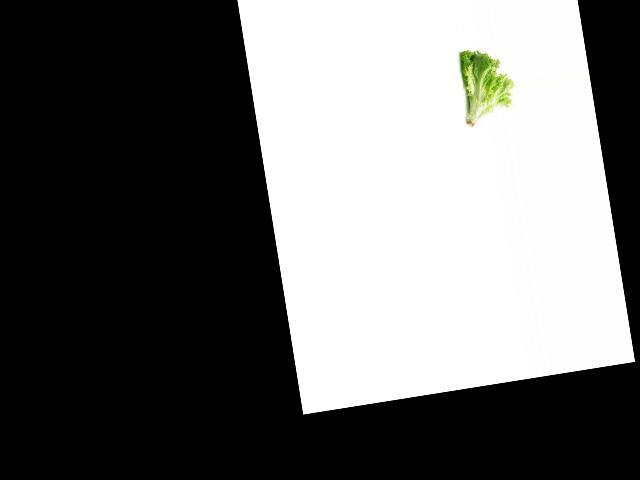lettuce: (454, 44, 520, 129)
